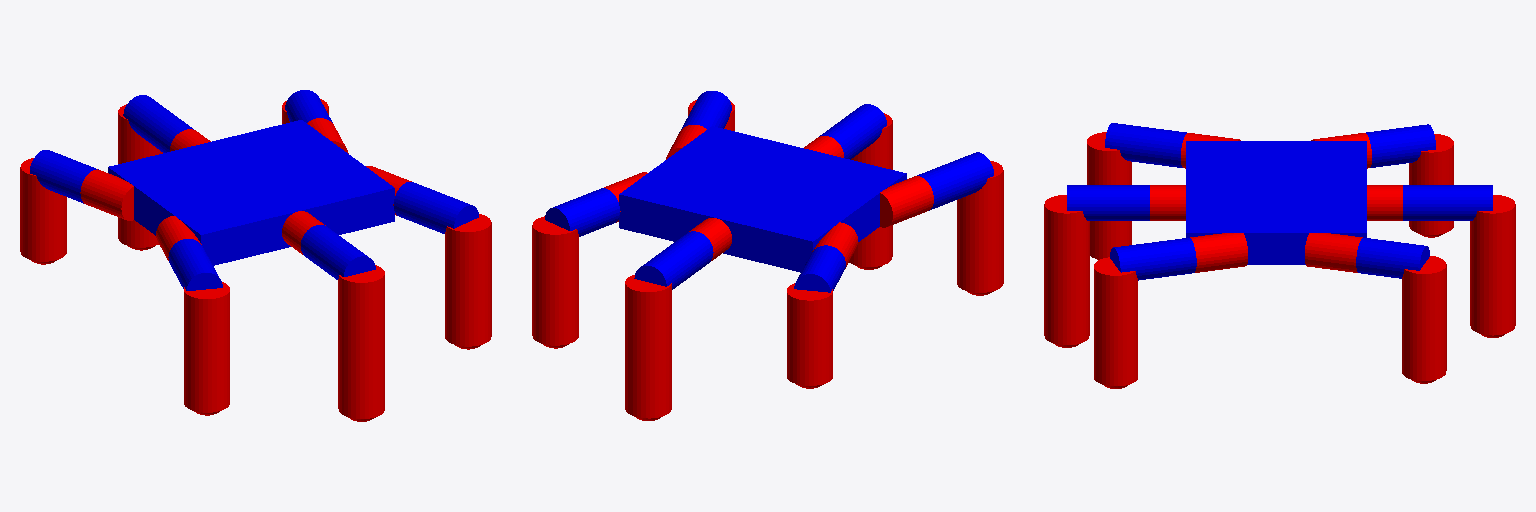
--- Facts derived from the render (not from the file) ---
3 views of the same robot in one strip: view 1: azimuth 30°, elevation 25°; view 2: azimuth 150°, elevation 25°; view 3: azimuth 270°, elevation 25° (orthographic).
Robot: pexod — 19 links, 18 joints (18 revolute); root link base_link; default pose: every joint at zero.
Visible links, largest first — view 1: base_link, leg_4_3, leg_3_3, leg_5_3, leg_0_3, leg_3_2, leg_4_2, leg_1_2, leg_1_3, leg_0_2, leg_0_1, leg_5_2 (+3 smaller); view 2: base_link, leg_1_3, leg_2_3, leg_5_3, leg_0_3, leg_1_2, leg_4_3, leg_5_2, leg_2_2, leg_5_1, leg_4_2, leg_0_2 (+3 smaller); view 3: base_link, leg_4_3, leg_1_3, leg_3_3, leg_2_3, leg_5_3, leg_1_2, leg_4_2, leg_3_2, leg_5_2, leg_0_3, leg_2_2 (+5 smaller).
Link boxes in pixels (<box>): base_link: <box>108,120,394,265</box>; leg_4_3: <box>338,265,384,421</box>; leg_3_3: <box>445,214,491,349</box>; leg_5_3: <box>184,282,229,415</box>; leg_0_3: <box>20,158,66,264</box>; leg_3_2: <box>394,182,478,233</box>; leg_4_2: <box>301,225,375,279</box>; leg_1_2: <box>123,95,193,152</box>; leg_1_3: <box>118,104,162,250</box>; leg_0_2: <box>30,150,98,203</box>; leg_0_1: <box>80,169,133,220</box>; leg_5_2: <box>168,239,222,290</box>; base_link: <box>619,126,906,272</box>; leg_1_3: <box>625,275,671,420</box>; leg_2_3: <box>532,216,578,348</box>; leg_5_3: <box>957,161,1003,295</box>; leg_0_3: <box>787,283,832,388</box>; leg_1_2: <box>634,231,713,289</box>; leg_4_3: <box>849,113,892,269</box>; leg_5_2: <box>917,152,993,210</box>; leg_2_2: <box>545,188,619,236</box>; leg_5_1: <box>880,176,933,227</box>; leg_4_2: <box>819,104,886,159</box>; leg_0_2: <box>794,245,845,292</box>; base_link: <box>1186,141,1366,264</box>; leg_4_3: <box>1044,195,1089,347</box>; leg_1_3: <box>1470,195,1515,337</box>; leg_3_3: <box>1094,257,1137,388</box>; leg_2_3: <box>1402,256,1446,383</box>; leg_5_3: <box>1087,132,1131,259</box>; leg_1_2: <box>1403,185,1492,220</box>; leg_4_2: <box>1067,185,1149,220</box>; leg_3_2: <box>1110,238,1196,280</box>; leg_5_2: <box>1105,123,1186,167</box>; leg_0_3: <box>1409,134,1453,237</box>; leg_2_2: <box>1356,238,1429,278</box>.
Size in the robot's own frame: 0.3774 by 0.5225 by 0.1938 metres.
Geometry: primitives only (box / cylinder / sphere), no mesh files.

URDF robot description (pexod):
<?xml version="1.0" ?>
<!-- =================================================================================== -->
<!-- |    This document was autogenerated by xacro from pexod.xacro                    | -->
<!-- |    EDITING THIS FILE BY HAND IS NOT RECOMMENDED                                 | -->
<!-- =================================================================================== -->
<robot name="pexod" xmlns:xacro="http://www.ros.org/wiki/xacro">
  <!-- <xacro:include filename="$(find pexod_description)/urdf/pexod_control.xacro" /> -->
  <!-- MATERIALS -->
  <material name="Blue">
    <color rgba="0 0 1 1"/>
  </material>
  <material name="Red">
    <color rgba="1 0 0 1"/>
  </material>
  <material name="Green">
    <color rgba="0 1 0 1"/>
  </material>
  <material name="Yellow">
    <color rgba="1 1 0 1"/>
  </material>
  <material name="LightGrey">
    <color rgba="0.6 0.6 0.6 1.0"/>
  </material>
  <!-- END OF MATERIALS -->
  <!-- XACRO MACROS FOR VISUALS AND COLLISIONS -->
  <!-- END OF XACRO MACROS -->
  <!-- TORSO -->
  <link name="base_link">
    <visual>
      <origin rpy="0 0 0" xyz="0 0 0"/>
      <geometry>
        <box size="0.24 0.2 0.04"/>
      </geometry>
      <material name="Blue"/>
    </visual>
    <collision>
      <origin rpy="0 0 0" xyz="0 0 0"/>
      <geometry>
        <box size="0.24 0.2 0.04"/>
      </geometry>
    </collision>
    <inertial>
      <!-- CENTER OF MASS -->
      <origin rpy="0 0 0" xyz="0 0 0"/>
      <mass value="1.031"/>
      <!-- box inertia: 1/12*m(y^2+z^2), ... -->
      <inertia ixx="0.00357413333333" ixy="0" ixz="0" iyy="0.00508626666667" iyz="0" izz="0.00838546666667"/>
    </inertial>
  </link>
  <!-- XACRO MACRO FOR LEGS LINKS/JOINTS -->
  <!-- END OF LEG LINKS/JOINTS -->
  <joint name="body_leg_2" type="revolute">
    <parent link="base_link"/>
    <child link="leg_2_1"/>
    <limit effort="30.0" lower="-1.57079632679" upper="1.57079632679" velocity="7.0"/>
    <origin rpy="0 0 -0.3" xyz="0.11 0.04 0"/>
    <!-- <xacro:if value="${index == 5 or index == 4 or index == 3}">
                <axis xyz="0 0 1"/>
            </xacro:if>
            <xacro:if value="${index == 2 or index == 1 or index == 0}"> -->
    <axis xyz="0 0 1"/>
    <!-- </xacro:if> -->
    <dynamics damping="0.0"/>
  </joint>
  <link name="leg_2_1">
    <visual>
      <origin rpy="1.57079632679 0 0" xyz="0.01 0.03 0"/>
      <geometry>
        <cylinder length="0.06" radius="0.02"/>
      </geometry>
      <material name="Red"/>
    </visual>
    <collision>
      <origin rpy="1.57079632679 0 0" xyz="0.01 0.03 0"/>
      <geometry>
        <box size="0.02 0.02 0.06"/>
      </geometry>
    </collision>
    <inertial>
      <!-- CENTER OF MASS -->
      <origin rpy="1.57079632679 0 0" xyz="0.01 0.03 0"/>
      <mass value="0.02"/>
      <!-- box inertia: 1/12*m(y^2+z^2), ... -->
      <inertia ixx="6.66666666667e-06" ixy="0" ixz="0" iyy="6.66666666667e-06" iyz="0" izz="1.33333333333e-06"/>
    </inertial>
  </link>
  <joint name="leg_2_1_2" type="revolute">
    <parent link="leg_2_1"/>
    <child link="leg_2_2"/>
    <limit effort="30.0" lower="-0.78539816339" upper="0.78539816339" velocity="7.0"/>
    <origin rpy="0 0 0" xyz="0 0.06 0"/>
    <axis xyz="1 0 0"/>
    <dynamics damping="0.0"/>
  </joint>
  <link name="leg_2_2">
    <visual>
      <origin rpy="1.57079632679 0 0" xyz="0.01 0.0367055231171 0"/>
      <geometry>
        <cylinder length="0.0734110462342" radius="0.02"/>
      </geometry>
      <material name="Blue"/>
    </visual>
    <collision>
      <origin rpy="1.57079632679 0 0" xyz="0.01 0.0367055231171 0"/>
      <geometry>
        <box size="0.02 0.02 0.0734110462342"/>
      </geometry>
    </collision>
    <inertial>
      <!-- CENTER OF MASS -->
      <origin rpy="1.57079632679 0 0" xyz="0.01 0.0367055231171 0"/>
      <mass value="0.184"/>
      <!-- box inertia: 1/12*m(y^2+z^2), ... -->
      <inertia ixx="8.87674528744e-05" ixy="0" ixz="0" iyy="8.87674528744e-05" iyz="0" izz="1.22666666667e-05"/>
    </inertial>
  </link>
  <joint name="leg_2_2_3" type="revolute">
    <parent link="leg_2_2"/>
    <child link="leg_2_3"/>
    <limit effort="30.0" lower="-0.78539816339" upper="0.78539816339" velocity="7.0"/>
    <origin rpy="-1.57079632679 0 0" xyz="0 0.0734110462342 0"/>
    <axis xyz="-1 0 0"/>
    <dynamics damping="0.0"/>
  </joint>
  <link name="leg_2_3">
    <visual>
      <origin rpy="1.57079632679 0 0" xyz="0.0125 0.065521823135 0"/>
      <geometry>
        <cylinder length="0.13104364627" radius="0.025"/>
      </geometry>
      <material name="Red"/>
    </visual>
    <visual>
      <origin rpy="1.57079632679 0 0" xyz="0.0125 0.11854364627 0"/>
      <geometry>
        <sphere radius="0.025"/>
      </geometry>
      <material name="Red"/>
    </visual>
    <collision>
      <origin rpy="1.57079632679 0 0" xyz="0.0125 0.065521823135 0"/>
      <geometry>
        <box size="0.025 0.025 0.13104364627"/>
      </geometry>
    </collision>
    <collision>
      <origin rpy="1.57079632679 0 0" xyz="0.0125 0.11854364627 0"/>
      <geometry>
        <sphere radius="0.025"/>
      </geometry>
      <material name="Red"/>
    </collision>
    <inertial>
      <!-- CENTER OF MASS -->
      <origin rpy="1.57079632679 0 0" xyz="0.0125 0.065521823135 0"/>
      <mass value="0.04"/>
      <!-- box inertia: 1/12*m(y^2+z^2), ... -->
      <inertia ixx="5.93247907591e-05" ixy="0" ixz="0" iyy="5.93247907591e-05" iyz="0" izz="4.16666666667e-06"/>
    </inertial>
  </link>
  <joint name="body_leg_3" type="revolute">
    <parent link="base_link"/>
    <child link="leg_3_1"/>
    <limit effort="30.0" lower="-1.57079632679" upper="1.57079632679" velocity="7.0"/>
    <origin rpy="0 0 0.3" xyz="0.11 -0.04 0"/>
    <!-- <xacro:if value="${index == 5 or index == 4 or index == 3}">
                <axis xyz="0 0 1"/>
            </xacro:if>
            <xacro:if value="${index == 2 or index == 1 or index == 0}"> -->
    <axis xyz="0 0 1"/>
    <!-- </xacro:if> -->
    <dynamics damping="0.0"/>
  </joint>
  <link name="leg_3_1">
    <visual>
      <origin rpy="1.57079632679 0 0" xyz="0.01 -0.03 0"/>
      <geometry>
        <cylinder length="0.06" radius="0.02"/>
      </geometry>
      <material name="Red"/>
    </visual>
    <collision>
      <origin rpy="1.57079632679 0 0" xyz="0.01 -0.03 0"/>
      <geometry>
        <box size="0.02 0.02 0.06"/>
      </geometry>
    </collision>
    <inertial>
      <!-- CENTER OF MASS -->
      <origin rpy="1.57079632679 0 0" xyz="0.01 -0.03 0"/>
      <mass value="0.02"/>
      <!-- box inertia: 1/12*m(y^2+z^2), ... -->
      <inertia ixx="6.66666666667e-06" ixy="0" ixz="0" iyy="6.66666666667e-06" iyz="0" izz="1.33333333333e-06"/>
    </inertial>
  </link>
  <joint name="leg_3_1_2" type="revolute">
    <parent link="leg_3_1"/>
    <child link="leg_3_2"/>
    <limit effort="30.0" lower="-0.78539816339" upper="0.78539816339" velocity="7.0"/>
    <origin rpy="0 0 0" xyz="0 -0.06 0"/>
    <axis xyz="-1 0 0"/>
    <dynamics damping="0.0"/>
  </joint>
  <link name="leg_3_2">
    <visual>
      <origin rpy="1.57079632679 0 0" xyz="0.01 -0.0441168337698 0"/>
      <geometry>
        <cylinder length="0.0882336675395" radius="0.02"/>
      </geometry>
      <material name="Blue"/>
    </visual>
    <collision>
      <origin rpy="1.57079632679 0 0" xyz="0.01 -0.0441168337698 0"/>
      <geometry>
        <box size="0.02 0.02 0.0882336675395"/>
      </geometry>
    </collision>
    <inertial>
      <!-- CENTER OF MASS -->
      <origin rpy="1.57079632679 0 0" xyz="0.01 -0.0441168337698 0"/>
      <mass value="0.184"/>
      <!-- box inertia: 1/12*m(y^2+z^2), ... -->
      <inertia ixx="0.000125506094675" ixy="0" ixz="0" iyy="0.000125506094675" iyz="0" izz="1.22666666667e-05"/>
    </inertial>
  </link>
  <joint name="leg_3_2_3" type="revolute">
    <parent link="leg_3_2"/>
    <child link="leg_3_3"/>
    <limit effort="30.0" lower="-0.78539816339" upper="0.78539816339" velocity="7.0"/>
    <origin rpy="1.57079632679 0 0" xyz="0 -0.0882336675395 0"/>
    <axis xyz="1 0 0"/>
    <dynamics damping="0.0"/>
  </joint>
  <link name="leg_3_3">
    <visual>
      <origin rpy="1.57079632679 0 0" xyz="0.0125 -0.067746919939 0"/>
      <geometry>
        <cylinder length="0.135493839878" radius="0.025"/>
      </geometry>
      <material name="Red"/>
    </visual>
    <visual>
      <origin rpy="1.57079632679 0 0" xyz="0.0125 -0.122993839878 0"/>
      <geometry>
        <sphere radius="0.025"/>
      </geometry>
      <material name="Red"/>
    </visual>
    <collision>
      <origin rpy="1.57079632679 0 0" xyz="0.0125 -0.067746919939 0"/>
      <geometry>
        <box size="0.025 0.025 0.135493839878"/>
      </geometry>
    </collision>
    <collision>
      <origin rpy="1.57079632679 0 0" xyz="0.0125 -0.122993839878 0"/>
      <geometry>
        <sphere radius="0.025"/>
      </geometry>
      <material name="Red"/>
    </collision>
    <inertial>
      <!-- CENTER OF MASS -->
      <origin rpy="1.57079632679 0 0" xyz="0.0125 -0.067746919939 0"/>
      <mass value="0.04"/>
      <!-- box inertia: 1/12*m(y^2+z^2), ... -->
      <inertia ixx="6.32786021496e-05" ixy="0" ixz="0" iyy="6.32786021496e-05" iyz="0" izz="4.16666666667e-06"/>
    </inertial>
  </link>
  <joint name="body_leg_0" type="revolute">
    <parent link="base_link"/>
    <child link="leg_0_1"/>
    <limit effort="30.0" lower="-1.57079632679" upper="1.57079632679" velocity="7.0"/>
    <origin rpy="0 0 0.3" xyz="-0.13 0.04 0"/>
    <!-- <xacro:if value="${index == 5 or index == 4 or index == 3}">
                <axis xyz="0 0 1"/>
            </xacro:if>
            <xacro:if value="${index == 2 or index == 1 or index == 0}"> -->
    <axis xyz="0 0 1"/>
    <!-- </xacro:if> -->
    <dynamics damping="0.0"/>
  </joint>
  <link name="leg_0_1">
    <visual>
      <origin rpy="1.57079632679 0 0" xyz="0.01 0.03 0"/>
      <geometry>
        <cylinder length="0.06" radius="0.02"/>
      </geometry>
      <material name="Red"/>
    </visual>
    <collision>
      <origin rpy="1.57079632679 0 0" xyz="0.01 0.03 0"/>
      <geometry>
        <box size="0.02 0.02 0.06"/>
      </geometry>
    </collision>
    <inertial>
      <!-- CENTER OF MASS -->
      <origin rpy="1.57079632679 0 0" xyz="0.01 0.03 0"/>
      <mass value="0.02"/>
      <!-- box inertia: 1/12*m(y^2+z^2), ... -->
      <inertia ixx="6.66666666667e-06" ixy="0" ixz="0" iyy="6.66666666667e-06" iyz="0" izz="1.33333333333e-06"/>
    </inertial>
  </link>
  <joint name="leg_0_1_2" type="revolute">
    <parent link="leg_0_1"/>
    <child link="leg_0_2"/>
    <limit effort="30.0" lower="-0.78539816339" upper="0.78539816339" velocity="7.0"/>
    <origin rpy="0 0 0" xyz="0 0.06 0"/>
    <axis xyz="1 0 0"/>
    <dynamics damping="0.0"/>
  </joint>
  <link name="leg_0_2">
    <visual>
      <origin rpy="1.57079632679 0 0" xyz="0.01 0.0371996435432 0"/>
      <geometry>
        <cylinder length="0.0743992870865" radius="0.02"/>
      </geometry>
      <material name="Blue"/>
    </visual>
    <collision>
      <origin rpy="1.57079632679 0 0" xyz="0.01 0.0371996435432 0"/>
      <geometry>
        <box size="0.02 0.02 0.0743992870865"/>
      </geometry>
    </collision>
    <inertial>
      <!-- CENTER OF MASS -->
      <origin rpy="1.57079632679 0 0" xyz="0.01 0.0371996435432 0"/>
      <mass value="0.184"/>
      <!-- box inertia: 1/12*m(y^2+z^2), ... -->
      <inertia ixx="9.10072267577e-05" ixy="0" ixz="0" iyy="9.10072267577e-05" iyz="0" izz="1.22666666667e-05"/>
    </inertial>
  </link>
  <joint name="leg_0_2_3" type="revolute">
    <parent link="leg_0_2"/>
    <child link="leg_0_3"/>
    <limit effort="30.0" lower="-0.78539816339" upper="0.78539816339" velocity="7.0"/>
    <origin rpy="-1.57079632679 0 0" xyz="0 0.0743992870865 0"/>
    <axis xyz="-1 0 0"/>
    <dynamics damping="0.0"/>
  </joint>
  <link name="leg_0_3">
    <visual>
      <origin rpy="1.57079632679 0 0" xyz="0.0125 0.0504618119855 0"/>
      <geometry>
        <cylinder length="0.100923623971" radius="0.025"/>
      </geometry>
      <material name="Red"/>
    </visual>
    <visual>
      <origin rpy="1.57079632679 0 0" xyz="0.0125 0.088423623971 0"/>
      <geometry>
        <sphere radius="0.025"/>
      </geometry>
      <material name="Red"/>
    </visual>
    <collision>
      <origin rpy="1.57079632679 0 0" xyz="0.0125 0.0504618119855 0"/>
      <geometry>
        <box size="0.025 0.025 0.100923623971"/>
      </geometry>
    </collision>
    <collision>
      <origin rpy="1.57079632679 0 0" xyz="0.0125 0.088423623971 0"/>
      <geometry>
        <sphere radius="0.025"/>
      </geometry>
      <material name="Red"/>
    </collision>
    <inertial>
      <!-- CENTER OF MASS -->
      <origin rpy="1.57079632679 0 0" xyz="0.0125 0.0504618119855 0"/>
      <mass value="0.04"/>
      <!-- box inertia: 1/12*m(y^2+z^2), ... -->
      <inertia ixx="3.60352595848e-05" ixy="0" ixz="0" iyy="3.60352595848e-05" iyz="0" izz="4.16666666667e-06"/>
    </inertial>
  </link>
  <joint name="body_leg_5" type="revolute">
    <parent link="base_link"/>
    <child link="leg_5_1"/>
    <limit effort="30.0" lower="-1.57079632679" upper="1.57079632679" velocity="7.0"/>
    <origin rpy="0 0 -0.3" xyz="-0.13 -0.04 0"/>
    <!-- <xacro:if value="${index == 5 or index == 4 or index == 3}">
                <axis xyz="0 0 1"/>
            </xacro:if>
            <xacro:if value="${index == 2 or index == 1 or index == 0}"> -->
    <axis xyz="0 0 1"/>
    <!-- </xacro:if> -->
    <dynamics damping="0.0"/>
  </joint>
  <link name="leg_5_1">
    <visual>
      <origin rpy="1.57079632679 0 0" xyz="0.01 -0.03 0"/>
      <geometry>
        <cylinder length="0.06" radius="0.02"/>
      </geometry>
      <material name="Red"/>
    </visual>
    <collision>
      <origin rpy="1.57079632679 0 0" xyz="0.01 -0.03 0"/>
      <geometry>
        <box size="0.02 0.02 0.06"/>
      </geometry>
    </collision>
    <inertial>
      <!-- CENTER OF MASS -->
      <origin rpy="1.57079632679 0 0" xyz="0.01 -0.03 0"/>
      <mass value="0.02"/>
      <!-- box inertia: 1/12*m(y^2+z^2), ... -->
      <inertia ixx="6.66666666667e-06" ixy="0" ixz="0" iyy="6.66666666667e-06" iyz="0" izz="1.33333333333e-06"/>
    </inertial>
  </link>
  <joint name="leg_5_1_2" type="revolute">
    <parent link="leg_5_1"/>
    <child link="leg_5_2"/>
    <limit effort="30.0" lower="-0.78539816339" upper="0.78539816339" velocity="7.0"/>
    <origin rpy="0 0 0" xyz="0 -0.06 0"/>
    <axis xyz="-1 0 0"/>
    <dynamics damping="0.0"/>
  </joint>
  <link name="leg_5_2">
    <visual>
      <origin rpy="1.57079632679 0 0" xyz="0.01 -0.0441170153735 0"/>
      <geometry>
        <cylinder length="0.088234030747" radius="0.02"/>
      </geometry>
      <material name="Blue"/>
    </visual>
    <collision>
      <origin rpy="1.57079632679 0 0" xyz="0.01 -0.0441170153735 0"/>
      <geometry>
        <box size="0.02 0.02 0.088234030747"/>
      </geometry>
    </collision>
    <inertial>
      <!-- CENTER OF MASS -->
      <origin rpy="1.57079632679 0 0" xyz="0.01 -0.0441170153735 0"/>
      <mass value="0.184"/>
      <!-- box inertia: 1/12*m(y^2+z^2), ... -->
      <inertia ixx="0.000125507077455" ixy="0" ixz="0" iyy="0.000125507077455" iyz="0" izz="1.22666666667e-05"/>
    </inertial>
  </link>
  <joint name="leg_5_2_3" type="revolute">
    <parent link="leg_5_2"/>
    <child link="leg_5_3"/>
    <limit effort="30.0" lower="-0.78539816339" upper="0.78539816339" velocity="7.0"/>
    <origin rpy="1.57079632679 0 0" xyz="0 -0.088234030747 0"/>
    <axis xyz="1 0 0"/>
    <dynamics damping="0.0"/>
  </joint>
  <link name="leg_5_3">
    <visual>
      <origin rpy="1.57079632679 0 0" xyz="0.0125 -0.067166527928 0"/>
      <geometry>
        <cylinder length="0.134333055856" radius="0.025"/>
      </geometry>
      <material name="Red"/>
    </visual>
    <visual>
      <origin rpy="1.57079632679 0 0" xyz="0.0125 -0.121833055856 0"/>
      <geometry>
        <sphere radius="0.025"/>
      </geometry>
      <material name="Red"/>
    </visual>
    <collision>
      <origin rpy="1.57079632679 0 0" xyz="0.0125 -0.067166527928 0"/>
      <geometry>
        <box size="0.025 0.025 0.134333055856"/>
      </geometry>
    </collision>
    <collision>
      <origin rpy="1.57079632679 0 0" xyz="0.0125 -0.121833055856 0"/>
      <geometry>
        <sphere radius="0.025"/>
      </geometry>
      <material name="Red"/>
    </collision>
    <inertial>
      <!-- CENTER OF MASS -->
      <origin rpy="1.57079632679 0 0" xyz="0.0125 -0.067166527928 0"/>
      <mass value="0.04"/>
      <!-- box inertia: 1/12*m(y^2+z^2), ... -->
      <inertia ixx="6.22345663187e-05" ixy="0" ixz="0" iyy="6.22345663187e-05" iyz="0" izz="4.16666666667e-06"/>
    </inertial>
  </link>
  <joint name="body_leg_1" type="revolute">
    <parent link="base_link"/>
    <child link="leg_1_1"/>
    <limit effort="30.0" lower="-1.57079632679" upper="1.57079632679" velocity="7.0"/>
    <origin rpy="0 0 0" xyz="-0.01 0.08 0"/>
    <!-- <xacro:if value="${index == 5 or index == 4 or index == 3}">
                <axis xyz="0 0 1"/>
            </xacro:if>
            <xacro:if value="${index == 2 or index == 1 or index == 0}"> -->
    <axis xyz="0 0 1"/>
    <!-- </xacro:if> -->
    <dynamics damping="0.0"/>
  </joint>
  <link name="leg_1_1">
    <visual>
      <origin rpy="1.57079632679 0 0" xyz="0.01 0.03 0"/>
      <geometry>
        <cylinder length="0.06" radius="0.02"/>
      </geometry>
      <material name="Red"/>
    </visual>
    <collision>
      <origin rpy="1.57079632679 0 0" xyz="0.01 0.03 0"/>
      <geometry>
        <box size="0.02 0.02 0.06"/>
      </geometry>
    </collision>
    <inertial>
      <!-- CENTER OF MASS -->
      <origin rpy="1.57079632679 0 0" xyz="0.01 0.03 0"/>
      <mass value="0.02"/>
      <!-- box inertia: 1/12*m(y^2+z^2), ... -->
      <inertia ixx="6.66666666667e-06" ixy="0" ixz="0" iyy="6.66666666667e-06" iyz="0" izz="1.33333333333e-06"/>
    </inertial>
  </link>
  <joint name="leg_1_1_2" type="revolute">
    <parent link="leg_1_1"/>
    <child link="leg_1_2"/>
    <limit effort="30.0" lower="-0.78539816339" upper="0.78539816339" velocity="7.0"/>
    <origin rpy="0 0 0" xyz="0 0.06 0"/>
    <axis xyz="1 0 0"/>
    <dynamics damping="0.0"/>
  </joint>
  <link name="leg_1_2">
    <visual>
      <origin rpy="1.57079632679 0 0" xyz="0.01 0.050105787915 0"/>
      <geometry>
        <cylinder length="0.10021157583" radius="0.02"/>
      </geometry>
      <material name="Blue"/>
    </visual>
    <collision>
      <origin rpy="1.57079632679 0 0" xyz="0.01 0.050105787915 0"/>
      <geometry>
        <box size="0.02 0.02 0.10021157583"/>
      </geometry>
    </collision>
    <inertial>
      <!-- CENTER OF MASS -->
      <origin rpy="1.57079632679 0 0" xyz="0.01 0.050105787915 0"/>
      <mass value="0.184"/>
      <!-- box inertia: 1/12*m(y^2+z^2), ... -->
      <inertia ixx="0.000160116185598" ixy="0" ixz="0" iyy="0.000160116185598" iyz="0" izz="1.22666666667e-05"/>
    </inertial>
  </link>
  <joint name="leg_1_2_3" type="revolute">
    <parent link="leg_1_2"/>
    <child link="leg_1_3"/>
    <limit effort="30.0" lower="-0.78539816339" upper="0.78539816339" velocity="7.0"/>
    <origin rpy="-1.57079632679 0 0" xyz="0 0.10021157583 0"/>
    <axis xyz="-1 0 0"/>
    <dynamics damping="0.0"/>
  </joint>
  <link name="leg_1_3">
    <visual>
      <origin rpy="1.57079632679 0 0" xyz="0.0125 0.0745928076815 0"/>
      <geometry>
        <cylinder length="0.149185615363" radius="0.025"/>
      </geometry>
      <material name="Red"/>
    </visual>
    <visual>
      <origin rpy="1.57079632679 0 0" xyz="0.0125 0.136685615363 0"/>
      <geometry>
        <sphere radius="0.025"/>
      </geometry>
      <material name="Red"/>
    </visual>
    <collision>
      <origin rpy="1.57079632679 0 0" xyz="0.0125 0.0745928076815 0"/>
      <geometry>
        <box size="0.025 0.025 0.149185615363"/>
      </geometry>
    </collision>
    <collision>
      <origin rpy="1.57079632679 0 0" xyz="0.0125 0.136685615363 0"/>
      <geometry>
        <sphere radius="0.025"/>
      </geometry>
      <material name="Red"/>
    </collision>
    <inertial>
      <!-- CENTER OF MASS -->
      <origin rpy="1.57079632679 0 0" xyz="0.0125 0.0745928076815 0"/>
      <mass value="0.04"/>
      <!-- box inertia: 1/12*m(y^2+z^2), ... -->
      <inertia ixx="7.62711594375e-05" ixy="0" ixz="0" iyy="7.62711594375e-05" iyz="0" izz="4.16666666667e-06"/>
    </inertial>
  </link>
  <joint name="body_leg_4" type="revolute">
    <parent link="base_link"/>
    <child link="leg_4_1"/>
    <limit effort="30.0" lower="-1.57079632679" upper="1.57079632679" velocity="7.0"/>
    <origin rpy="0 0 0" xyz="-0.01 -0.08 0"/>
    <!-- <xacro:if value="${index == 5 or index == 4 or index == 3}">
                <axis xyz="0 0 1"/>
            </xacro:if>
            <xacro:if value="${index == 2 or index == 1 or index == 0}"> -->
    <axis xyz="0 0 1"/>
    <!-- </xacro:if> -->
    <dynamics damping="0.0"/>
  </joint>
  <link name="leg_4_1">
    <visual>
      <origin rpy="1.57079632679 0 0" xyz="0.01 -0.03 0"/>
      <geometry>
        <cylinder length="0.06" radius="0.02"/>
      </geometry>
      <material name="Red"/>
    </visual>
    <collision>
      <origin rpy="1.57079632679 0 0" xyz="0.01 -0.03 0"/>
      <geometry>
        <box size="0.02 0.02 0.06"/>
      </geometry>
    </collision>
    <inertial>
      <!-- CENTER OF MASS -->
      <origin rpy="1.57079632679 0 0" xyz="0.01 -0.03 0"/>
      <mass value="0.02"/>
      <!-- box inertia: 1/12*m(y^2+z^2), ... -->
      <inertia ixx="6.66666666667e-06" ixy="0" ixz="0" iyy="6.66666666667e-06" iyz="0" izz="1.33333333333e-06"/>
    </inertial>
  </link>
  <joint name="leg_4_1_2" type="revolute">
    <parent link="leg_4_1"/>
    <child link="leg_4_2"/>
    <limit effort="30.0" lower="-0.78539816339" upper="0.78539816339" velocity="7.0"/>
    <origin rpy="0 0 0" xyz="0 -0.06 0"/>
    <axis xyz="-1 0 0"/>
    <dynamics damping="0.0"/>
  </joint>
  <link name="leg_4_2">
    <visual>
      <origin rpy="1.57079632679 0 0" xyz="0.01 -0.0461621117735 0"/>
      <geometry>
        <cylinder length="0.092324223547" radius="0.02"/>
      </geometry>
      <material name="Blue"/>
    </visual>
    <collision>
      <origin rpy="1.57079632679 0 0" xyz="0.01 -0.0461621117735 0"/>
      <geometry>
        <box size="0.02 0.02 0.092324223547"/>
      </geometry>
    </collision>
    <inertial>
      <!-- CENTER OF MASS -->
      <origin rpy="1.57079632679 0 0" xyz="0.01 -0.0461621117735 0"/>
      <mass value="0.184"/>
      <!-- box inertia: 1/12*m(y^2+z^2), ... -->
      <inertia ixx="0.000136831021221" ixy="0" ixz="0" iyy="0.000136831021221" iyz="0" izz="1.22666666667e-05"/>
    </inertial>
  </link>
  <joint name="leg_4_2_3" type="revolute">
    <parent link="leg_4_2"/>
    <child link="leg_4_3"/>
    <limit effort="30.0" lower="-0.78539816339" upper="0.78539816339" velocity="7.0"/>
    <origin rpy="1.57079632679 0 0" xyz="0 -0.092324223547 0"/>
    <axis xyz="1 0 0"/>
    <dynamics damping="0.0"/>
  </joint>
  <link name="leg_4_3">
    <visual>
      <origin rpy="1.57079632679 0 0" xyz="0.0125 -0.0806568646695 0"/>
      <geometry>
        <cylinder length="0.161313729339" radius="0.025"/>
      </geometry>
      <material name="Red"/>
    </visual>
    <visual>
      <origin rpy="1.57079632679 0 0" xyz="0.0125 -0.148813729339 0"/>
      <geometry>
        <sphere radius="0.025"/>
      </geometry>
      <material name="Red"/>
    </visual>
    <collision>
      <origin rpy="1.57079632679 0 0" xyz="0.0125 -0.0806568646695 0"/>
      <geometry>
        <box size="0.025 0.025 0.161313729339"/>
      </geometry>
    </collision>
    <collision>
      <origin rpy="1.57079632679 0 0" xyz="0.0125 -0.148813729339 0"/>
      <geometry>
        <sphere radius="0.025"/>
      </geometry>
      <material name="Red"/>
    </collision>
    <inertial>
      <!-- CENTER OF MASS -->
      <origin rpy="1.57079632679 0 0" xyz="0.0125 -0.0806568646695 0"/>
      <mass value="0.04"/>
      <!-- box inertia: 1/12*m(y^2+z^2), ... -->
      <inertia ixx="8.88237309109e-05" ixy="0" ixz="0" iyy="8.88237309109e-05" iyz="0" izz="4.16666666667e-06"/>
    </inertial>
  </link>
  <!-- END OF LEG LINKS/JOINTS -->
</robot>
